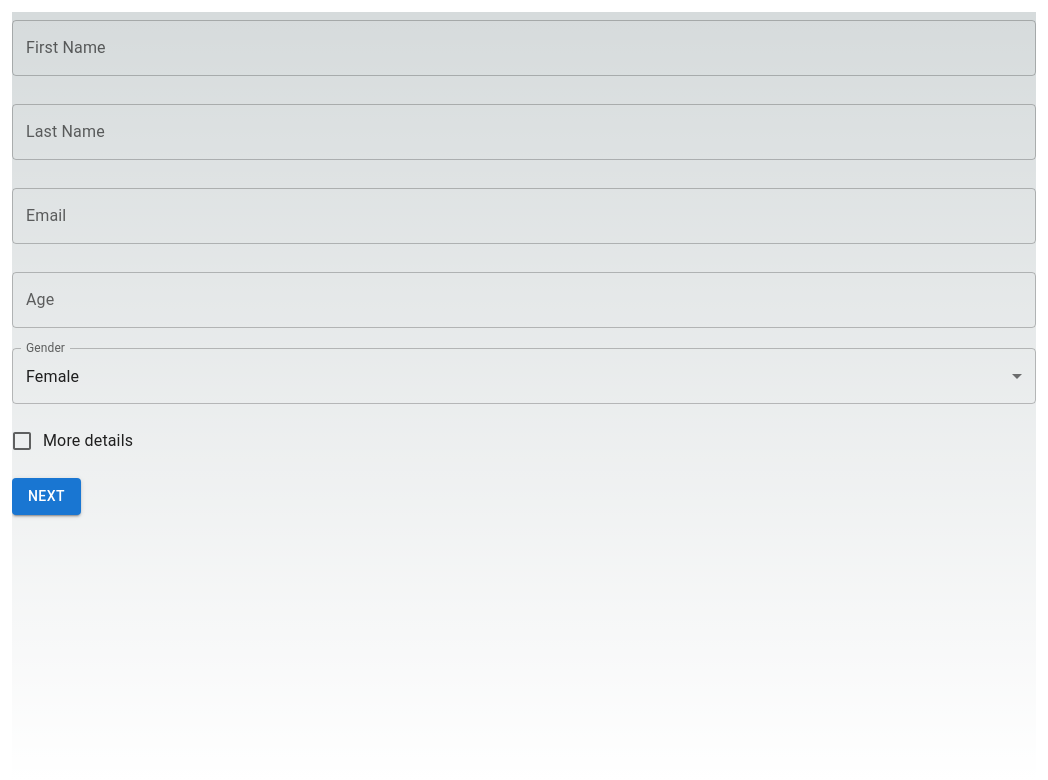
FormFirstStep fails › if first name is too short
In the field labelled "First Name": [524, 48] box x1=12 y1=20 x2=1036 y2=76, type "on"
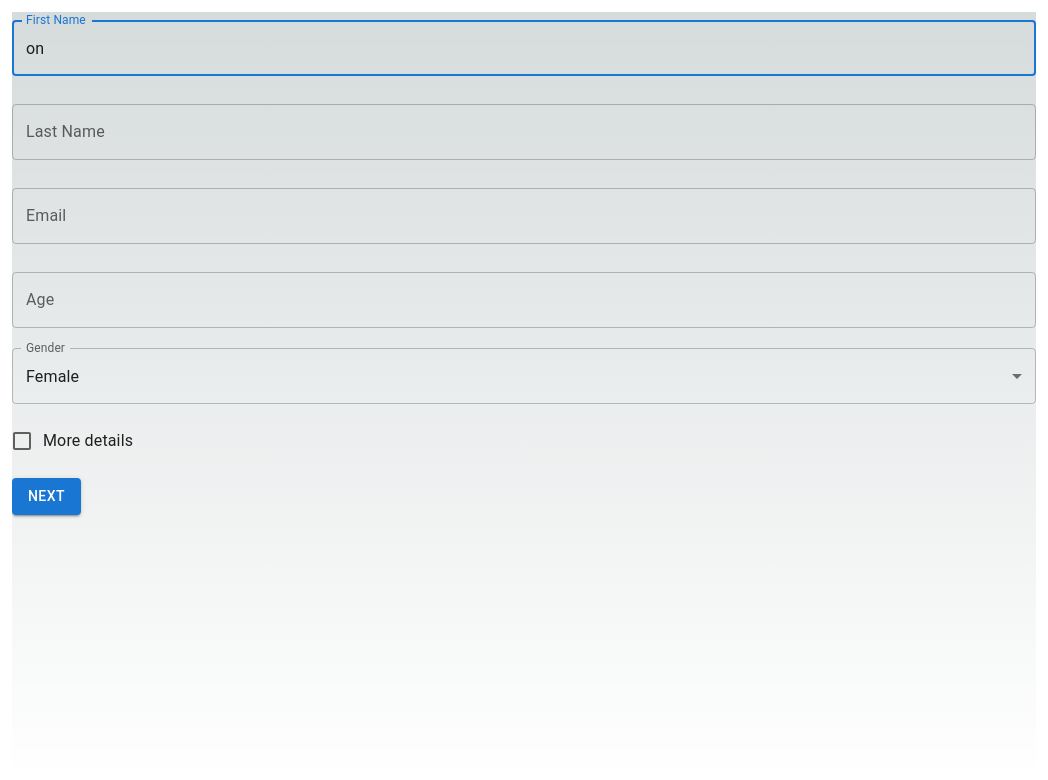
Click the button "Next": [46, 496] box x1=12 y1=478 x2=81 y2=514
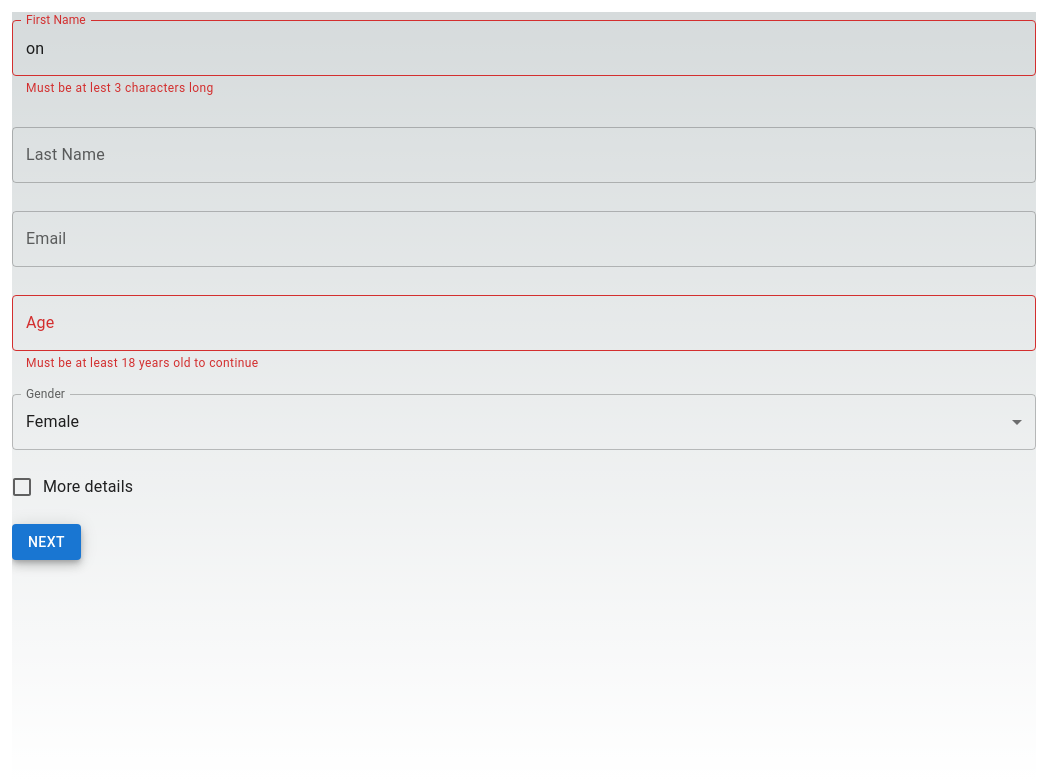
Now the text "Must be at lest 3 characters long" is shown, box x1=26 y1=81 x2=214 y2=95
